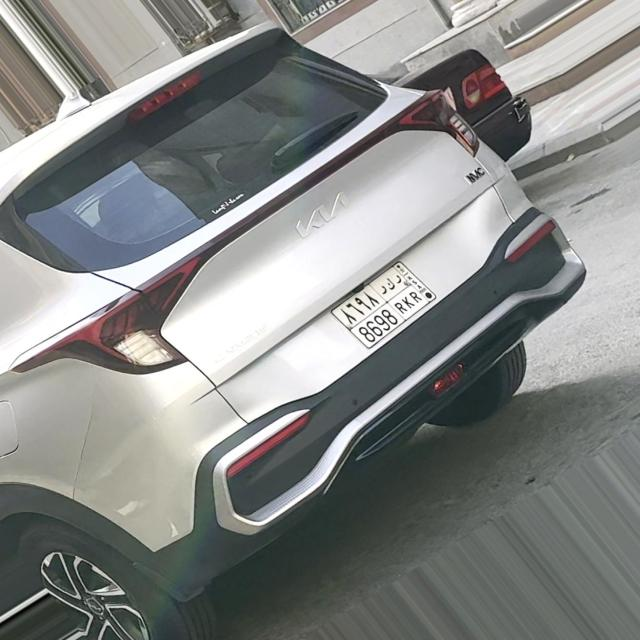Car-plate: (316, 248, 455, 364)
